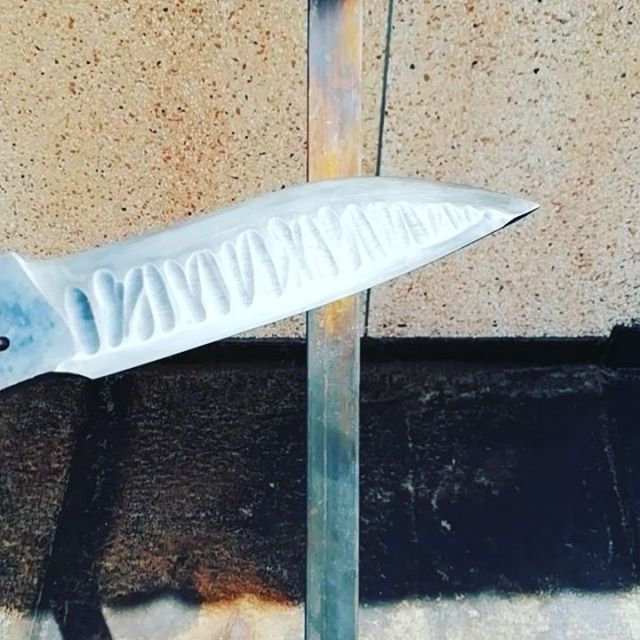knife: (1, 175, 541, 391)
